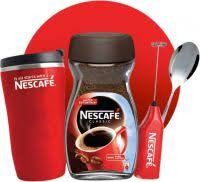nescafe-classic/gold-med: (65, 31, 139, 179)
